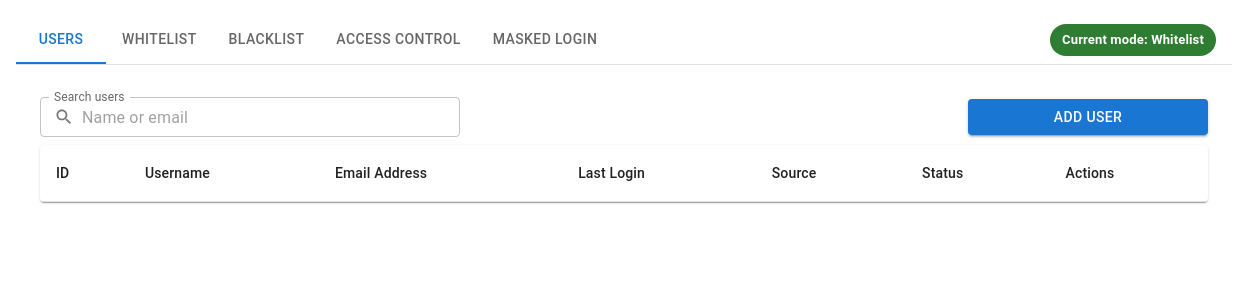
Test: AdminPage › Rendering › renders access control mode on Access Control tab
This screenshot has width=1249, height=284.
Step 1. Click the tab "Access Control" → (398, 40), box [320,16,477,64]
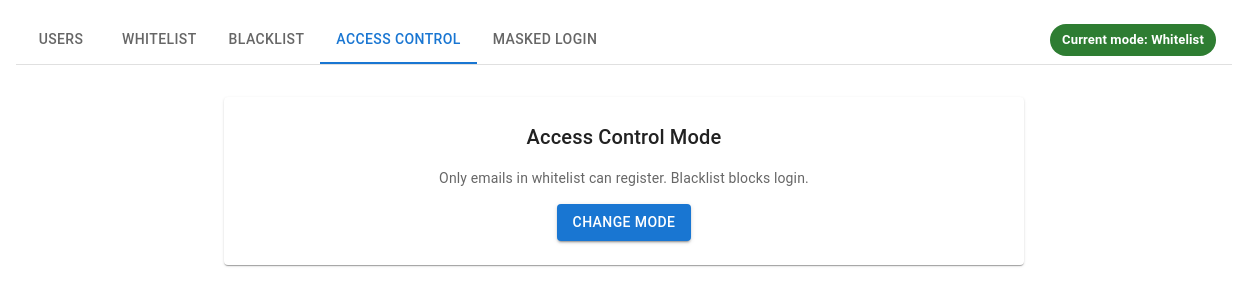
expect the heading "Access Control Mode" is shown: met, box [527,125,721,149]
